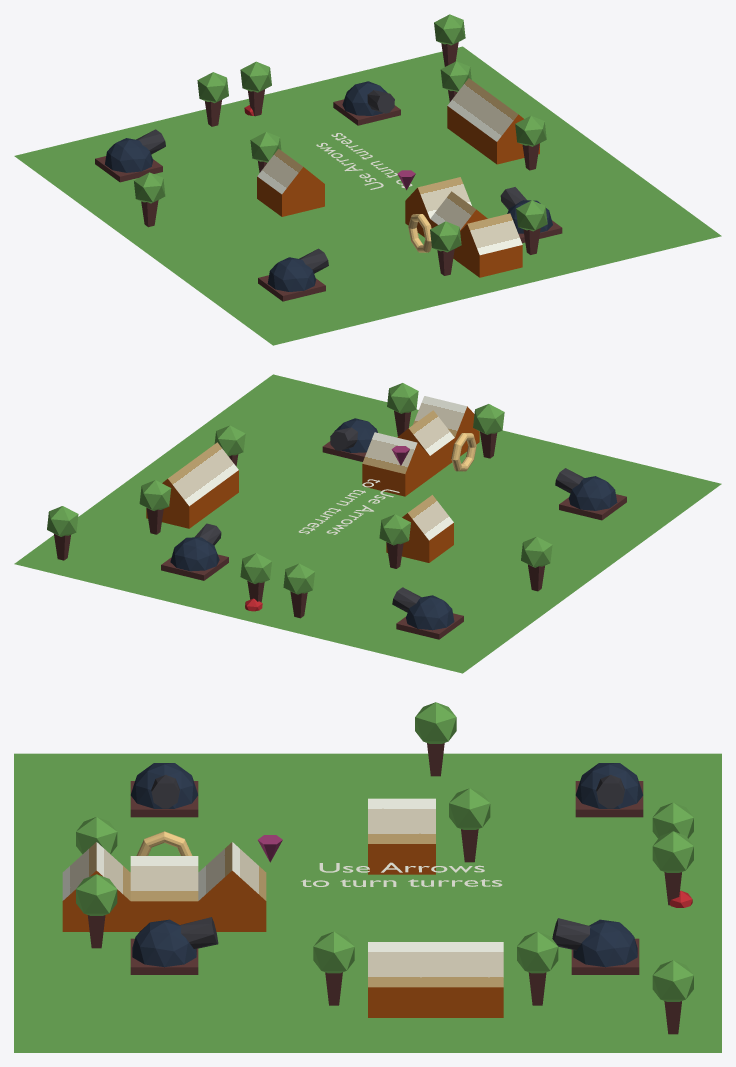
Rendered from level0b.gltf.
3 views of the same model, one above another, from view 1: azimuth 30°, elevation 25°; view 2: azimuth 150°, elevation 25°; view 3: azimuth 270°, elevation 25° (orthographic). The views are drawn at different scales.
Visible parts, largest first — view 1: Plane, Cube.001, Cube.005, Cube, canon.002, canon.004, canontttk, Cube.002, Cube.003, Cube.004, Cube.010, Cube.011 (+10 smaller); view 2: Plane, Cube.003, Cube.002, Cube.005, canon.002, canon.004, canontttk, Cube.004, Cube, canon, Cube.001, Cube.009 (+10 smaller); view 3: Plane, Cube, Cube.002, Cube.005, Cube.003, Cube.004, canon, canontttk, Cube.001, canon.002, canon.004, Cube.010 (+10 smaller).
Boxes of the visible parts, bbox=[...] form: Plane: bbox=[14, 46, 721, 345]; Cube.001: bbox=[455, 213, 522, 277]; Cube.005: bbox=[257, 149, 324, 216]; Cube: bbox=[472, 96, 539, 164]; canon.002: bbox=[258, 248, 328, 301]; canon.004: bbox=[95, 129, 165, 182]; canontttk: bbox=[333, 81, 400, 125]; Cube.002: bbox=[447, 78, 493, 145]; Cube.003: bbox=[405, 177, 471, 237]; Cube.004: bbox=[430, 191, 487, 259]; Cube.010: bbox=[134, 172, 165, 227]; Cube.011: bbox=[516, 200, 547, 254]; Plane: bbox=[14, 374, 721, 673]; Cube.003: bbox=[362, 432, 429, 496]; Cube.002: bbox=[146, 460, 213, 528]; Cube.005: bbox=[386, 495, 453, 562]; canon.002: bbox=[555, 468, 626, 520]; canon.004: bbox=[392, 587, 463, 639]; canontttk: bbox=[161, 523, 228, 580]; Cube.004: bbox=[397, 410, 454, 478]; Cube: bbox=[193, 442, 238, 510]; canon: bbox=[322, 418, 377, 461]; Cube.001: bbox=[413, 396, 479, 456]; Cube.009: bbox=[473, 404, 504, 458]; Plane: bbox=[14, 753, 721, 1052]; Cube: bbox=[368, 942, 435, 1017]; Cube.002: bbox=[436, 942, 503, 1017]; Cube.005: bbox=[368, 798, 435, 874]; Cube.003: bbox=[198, 842, 266, 931]; Cube.004: bbox=[130, 856, 198, 931]; canon: bbox=[130, 917, 218, 974]; canontttk: bbox=[552, 918, 639, 974]; Cube.001: bbox=[62, 842, 130, 931]; canon.002: bbox=[130, 763, 198, 817]; canon.004: bbox=[575, 763, 643, 817]; Cube.010: bbox=[415, 702, 456, 776].
Size of the model in its own units: 20.87 by 3.09 by 20.87.
Materials: 1 (1 with a texture image).
